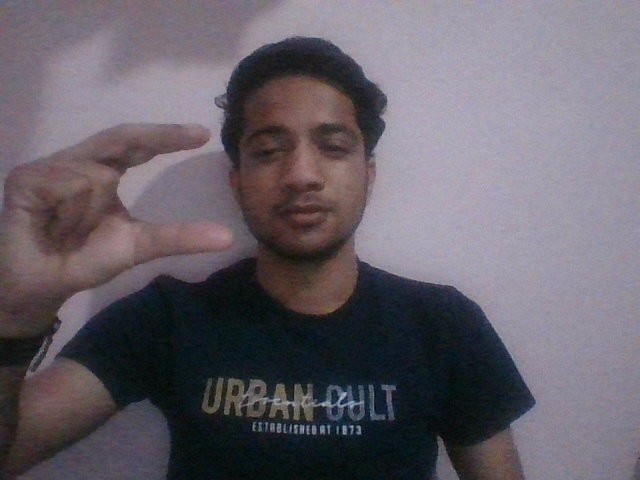no: (3, 117, 236, 311)
